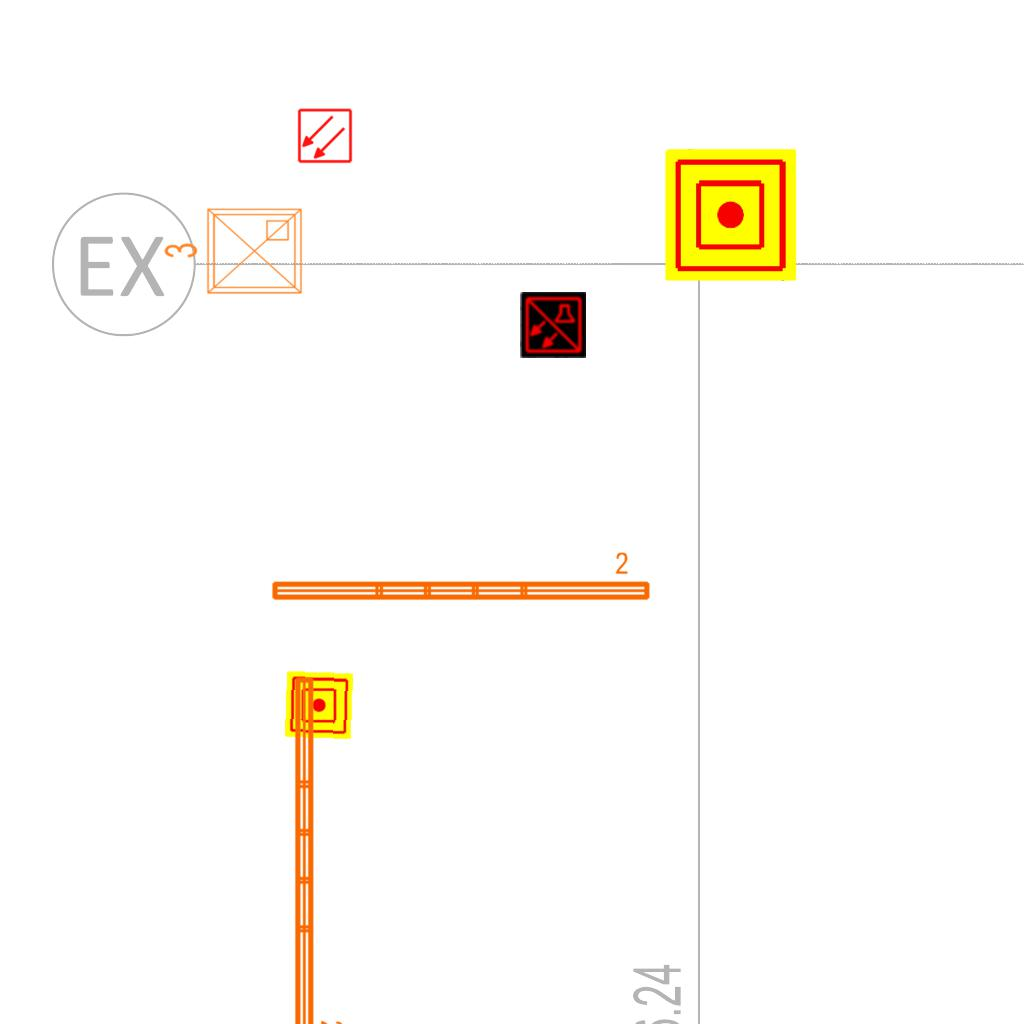Ambulanz_Pendelleuchte_LED: (267, 550, 654, 606), (289, 672, 345, 1024)
Einbaudownlights_LED_Konferenzraeume: (159, 201, 309, 305)
NAM-Nichtautomatischer_Melder: (665, 149, 797, 281), (284, 670, 354, 740)
OKW_Multisensormelder_(Kombination_optischer_Rauch-Kahlenmonoxid_Waerme-Melder): (520, 292, 586, 358)
RMO_Rauchmelder_optischer: (297, 108, 353, 164)
